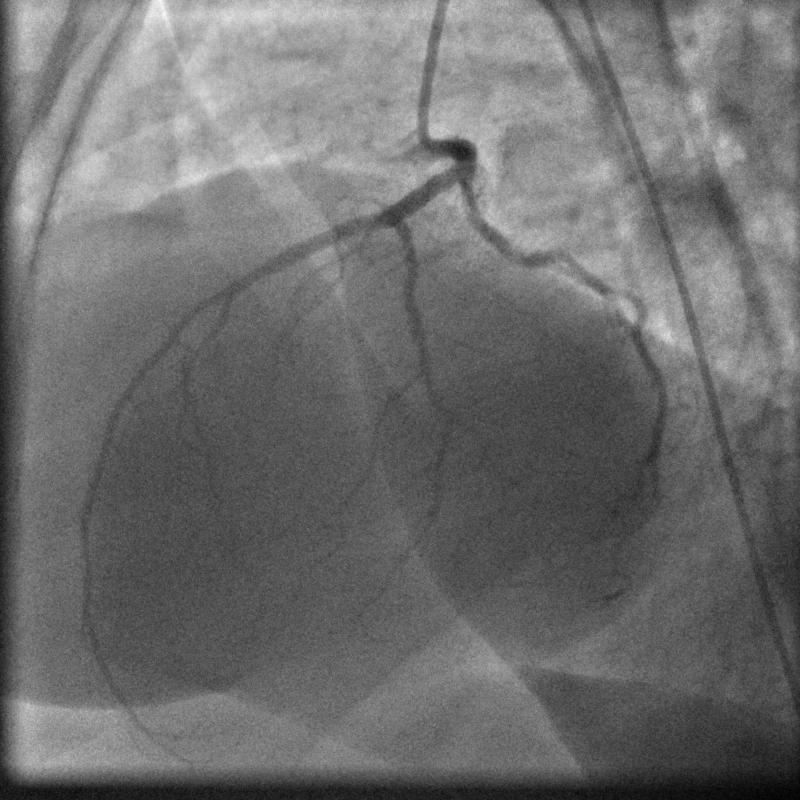Stenosis: (499, 228, 542, 284)
